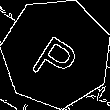P_NE: (27, 22, 85, 84)
